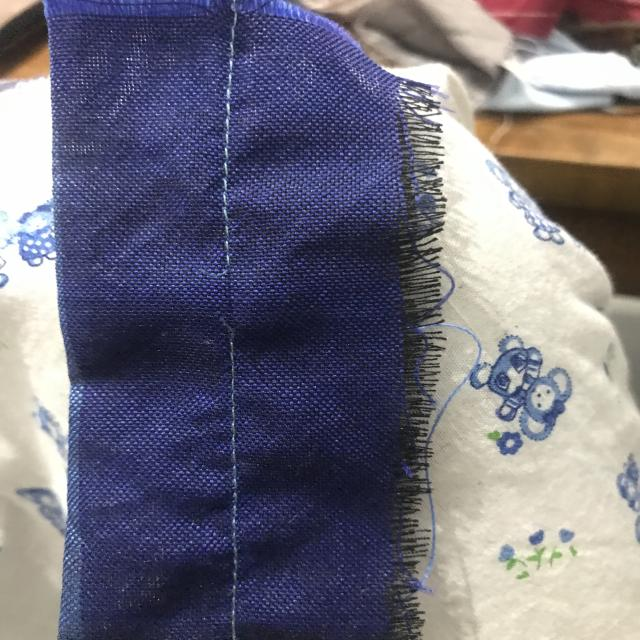broken: (193, 258, 257, 348)
good: (213, 114, 249, 213)
